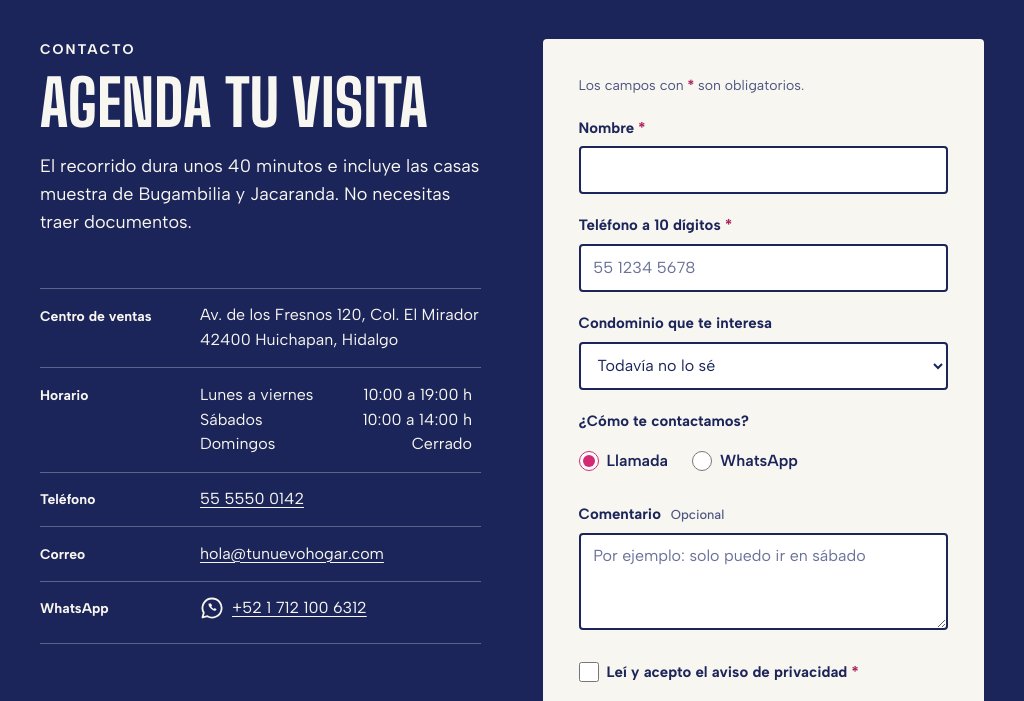
Test case: Contact: validation › rejects the name "12345 !!!" for characters that do not belong in a name
The width and height of the screenshot is (1024, 701).
Click the checkbox labelled "Leí y acepto el aviso de privacidad *": (588, 672) [578,662,598,682]
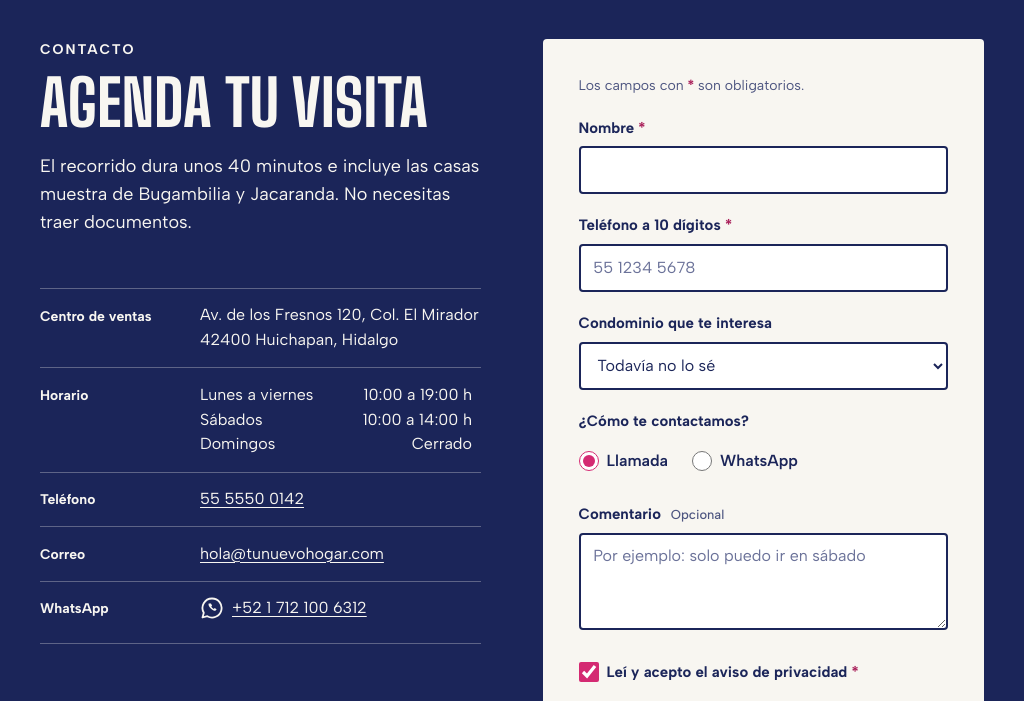
In the field labelled "Nombre *": (763, 170) [578,146,948,194], type "12345 !!!"
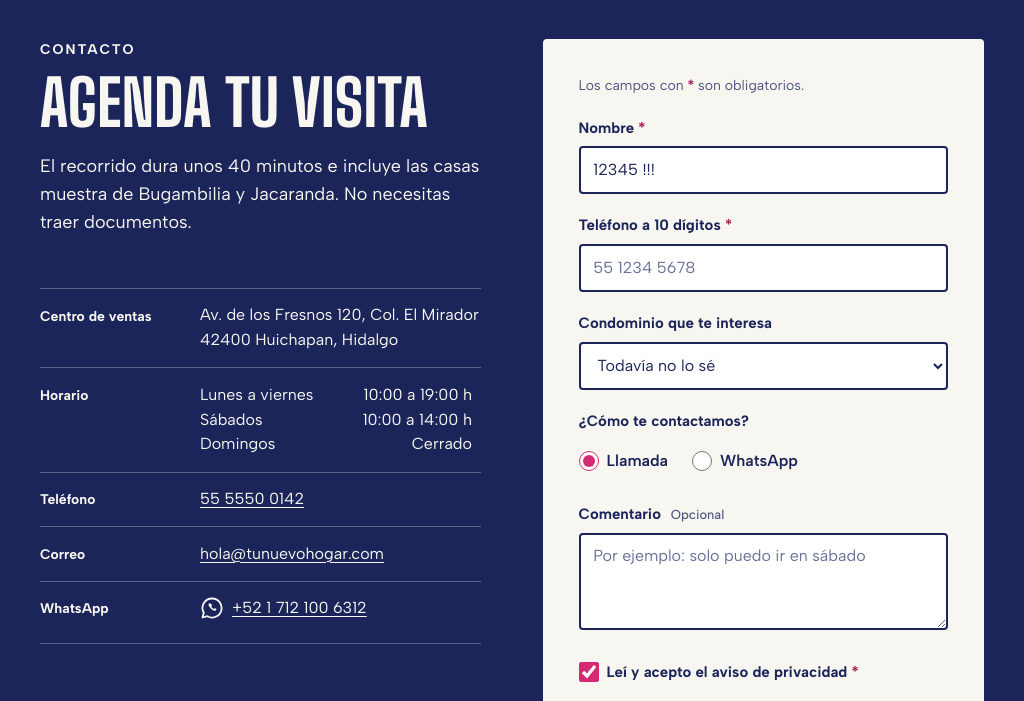
In the field labelled "Teléfono a 10 dígitos *": (763, 268) [578,244,948,292], type "5512345678"
(page scrolled)
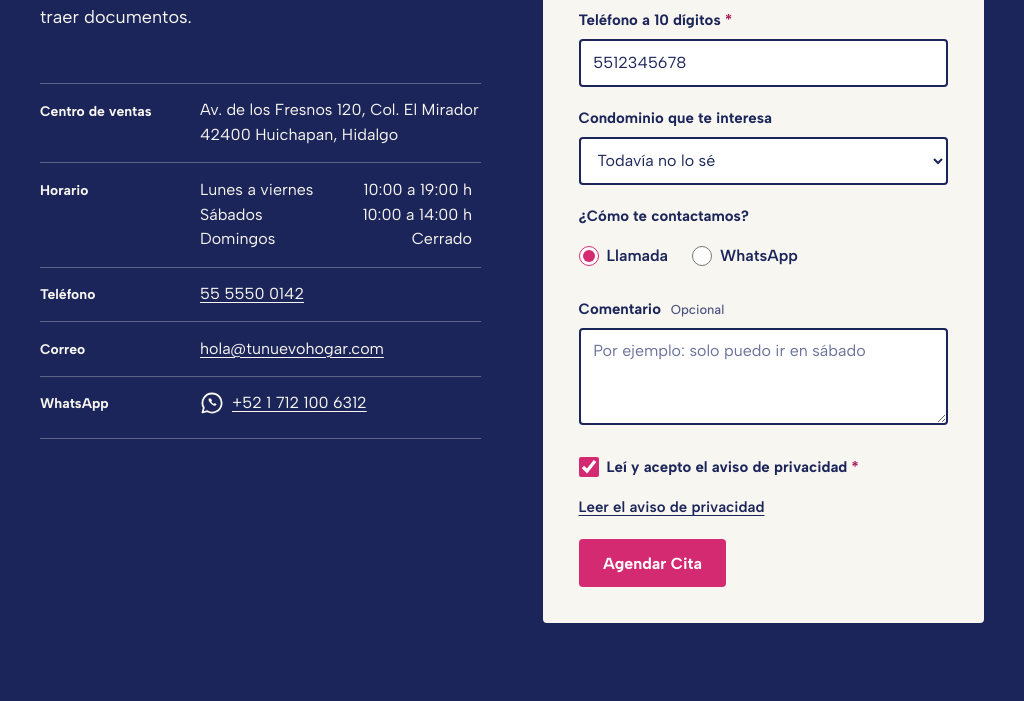
Click the button "Agendar Cita": (652, 563) [578,539,726,587]
(page scrolled)
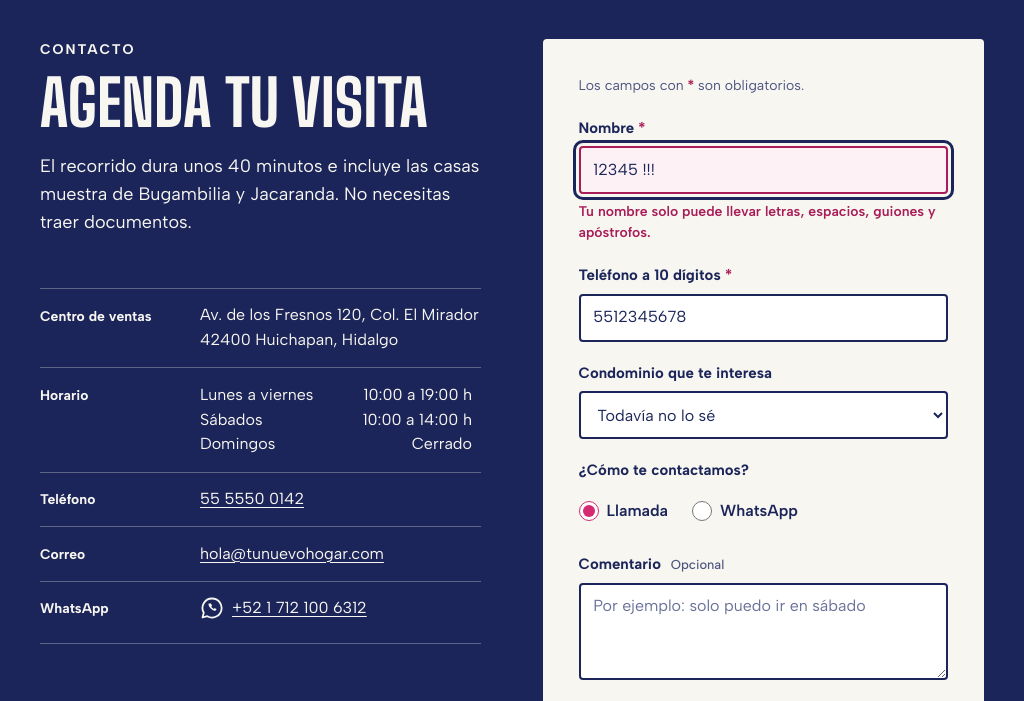
Result: the text "Tu nombre solo puede llevar letras, espacios, guiones y apóstrofos." is shown at [578,201,948,244]
